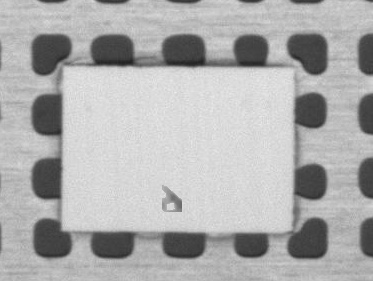DIE_INK: (215, 138, 242, 160)
